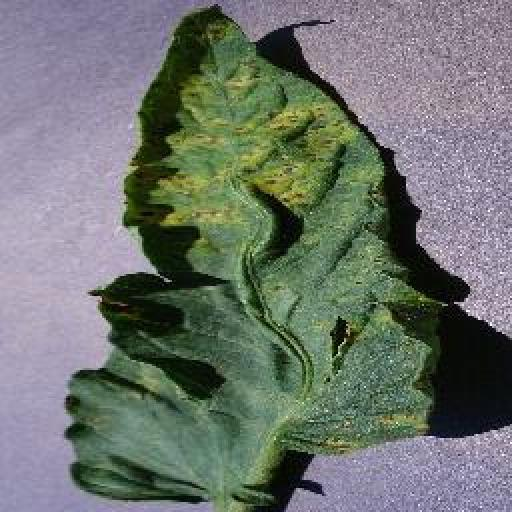disease_tomato: (60, 2, 444, 512)
